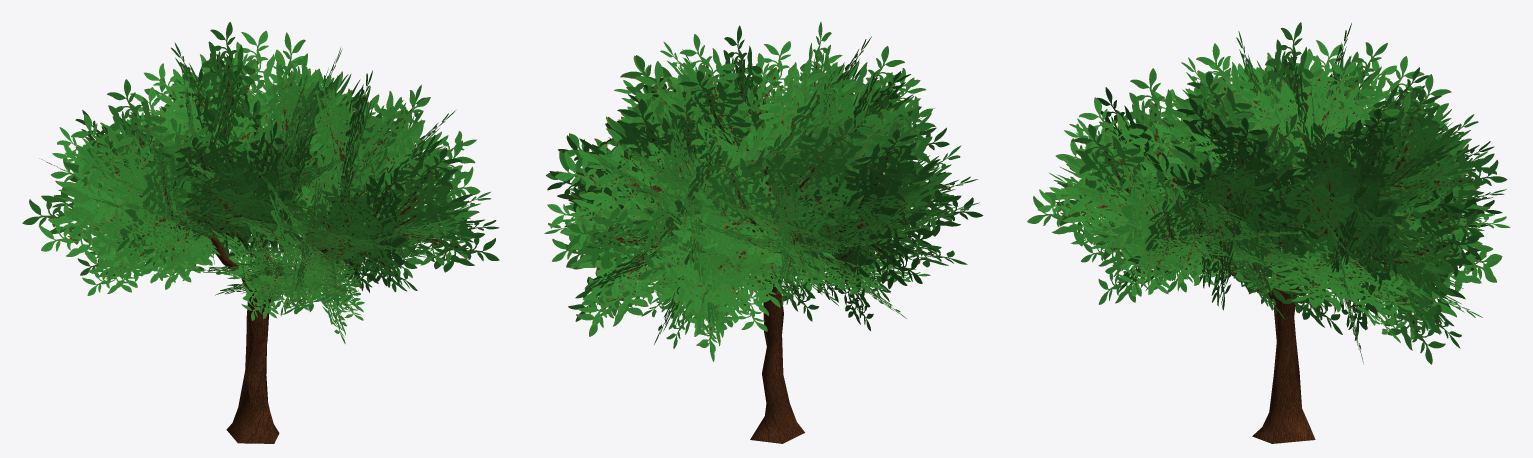
File: tree1.fbx
3 renders of one model, left to right at view 1: azimuth 30°, elevation 25°; view 2: azimuth 150°, elevation 25°; view 3: azimuth 270°, elevation 25°, orthographic. The views are drawn at different scales.
Parts seen in each view (by area): view 1: Tree3; view 2: Tree3; view 3: Tree3.
Boxes of the visible parts, box(x1,y1,x2,y2) form: Tree3: box(22, 22, 499, 443); Tree3: box(544, 22, 983, 443); Tree3: box(1027, 22, 1510, 443).
Size of the model in its own units: 31.41 by 26.17 by 31.76.
